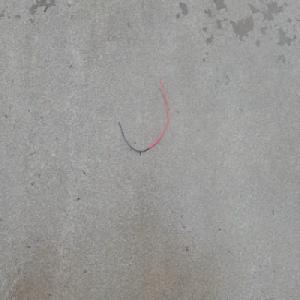Wire: (114, 69, 170, 154)
